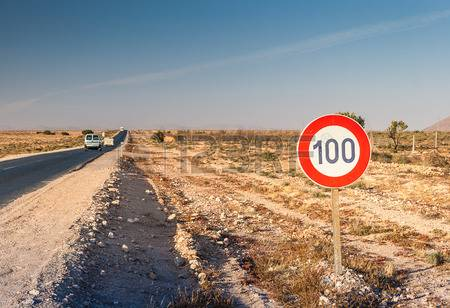Speed_limit_100km: (297, 114, 371, 188)
